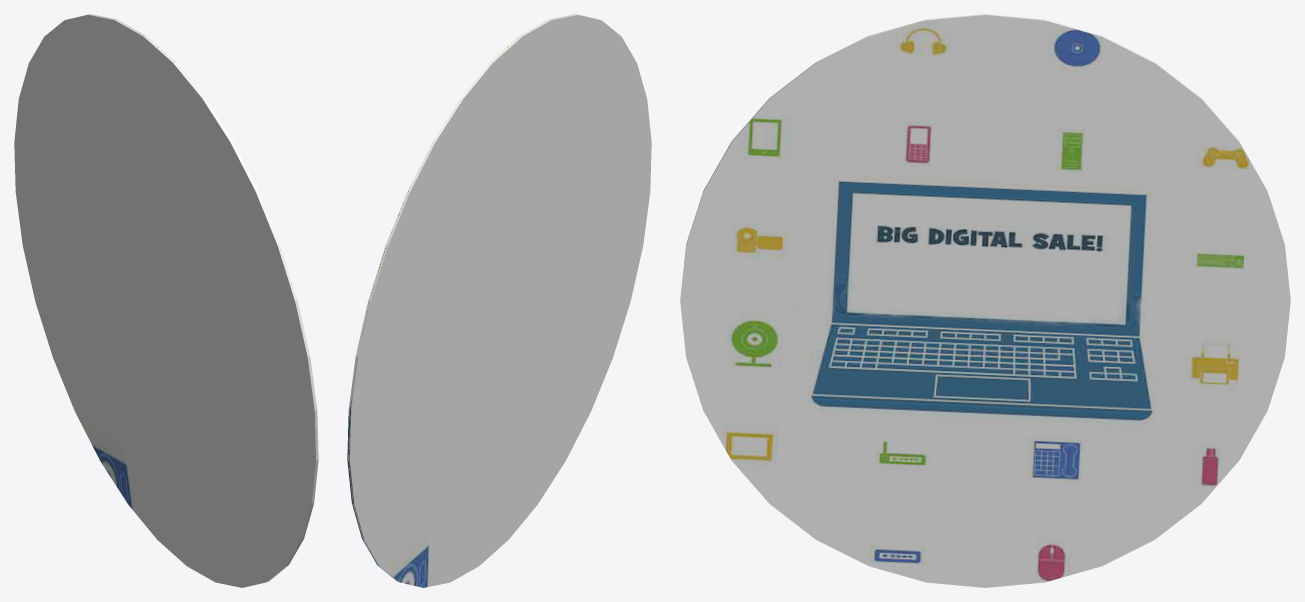
File: cyclebannerO2Back.fbx
3 renders of one model, left to right at view 1: azimuth 30°, elevation 25°; view 2: azimuth 150°, elevation 25°; view 3: azimuth 270°, elevation 25°, orthographic. The views are drawn at different scales.
Visible parts, largest first — view 1: Cylinder; view 2: Cylinder; view 3: Cylinder.
Boxes of the visible parts, x1,y1,x2,y2 form: Cylinder: (14, 14, 318, 587); Cylinder: (347, 14, 651, 587); Cylinder: (680, 14, 1290, 587).
Size of the model in its own units: 17.7 by 199 by 200.
Materials: 1 (1 with a texture image).
